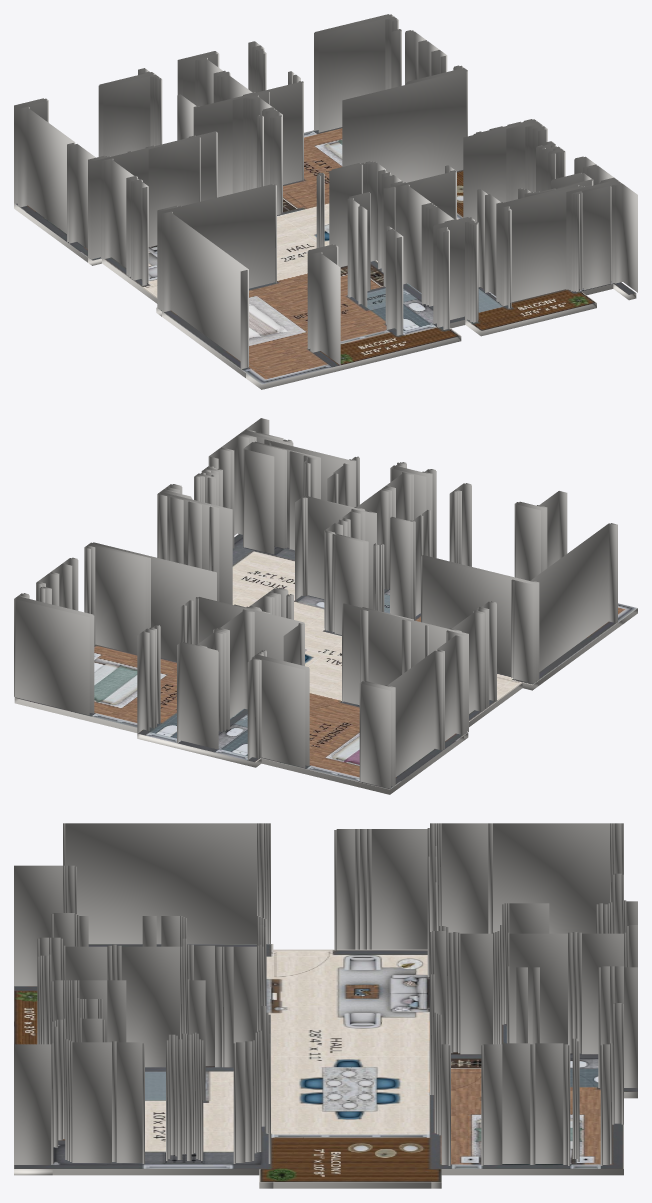
Rendered from SPR_unit_F_conceptual.glb.
The picture shows the model from 3 angles, top to bottom: view 1: azimuth 30°, elevation 25°; view 2: azimuth 150°, elevation 25°; view 3: azimuth 270°, elevation 25°; orthographic projection. The views are drawn at different scales.
Parts seen in each view (by area): view 1: UnitF_walls_from_plan, UnitF_floor_brochure_plan, UnitF_slab; view 2: UnitF_walls_from_plan, UnitF_floor_brochure_plan, UnitF_slab; view 3: UnitF_walls_from_plan, UnitF_floor_brochure_plan, UnitF_slab.
Part boxes in pixels (bbox=[...]): UnitF_walls_from_plan: bbox=[14, 14, 637, 369]; UnitF_floor_brochure_plan: bbox=[14, 127, 635, 384]; UnitF_slab: bbox=[14, 203, 636, 389]; UnitF_walls_from_plan: bbox=[14, 418, 617, 788]; UnitF_floor_brochure_plan: bbox=[15, 534, 637, 789]; UnitF_slab: bbox=[14, 608, 637, 794]; UnitF_walls_from_plan: bbox=[14, 823, 637, 1165]; UnitF_floor_brochure_plan: bbox=[14, 944, 637, 1182]; UnitF_slab: bbox=[14, 1092, 637, 1188].
Bounding box in the file's own units: 12.27 × 3.05 × 13.56.
3 materials, 1 textured.
